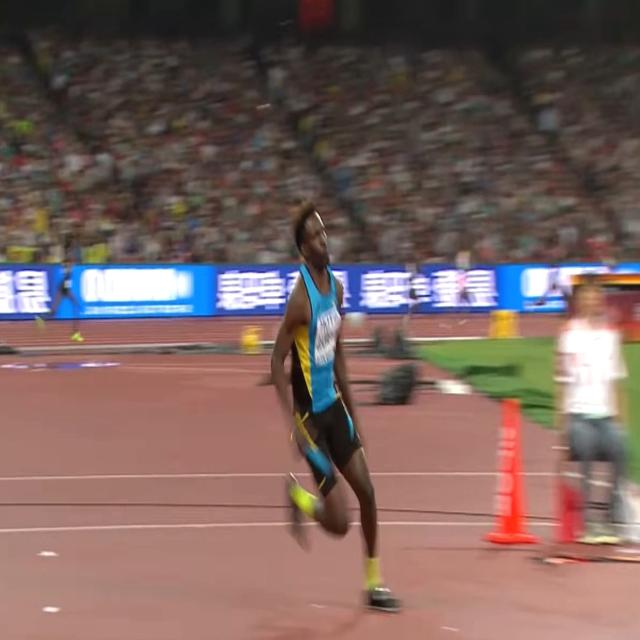run: (270, 202, 404, 617)
